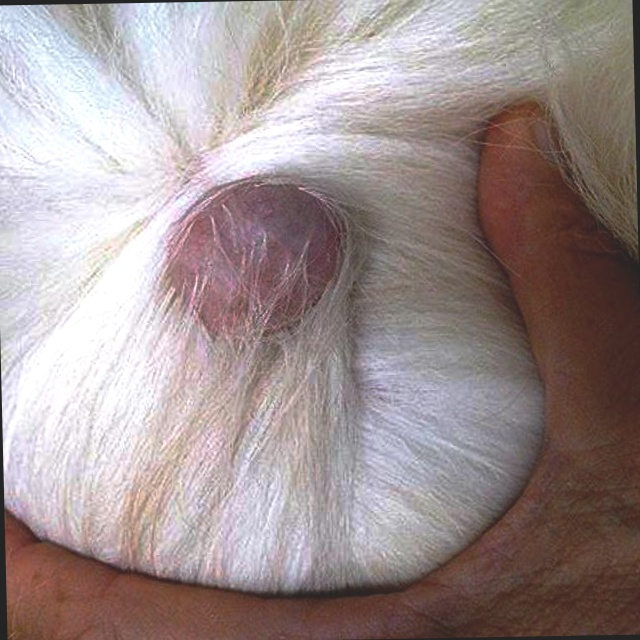lump_and_bump: (158, 185, 358, 330)
